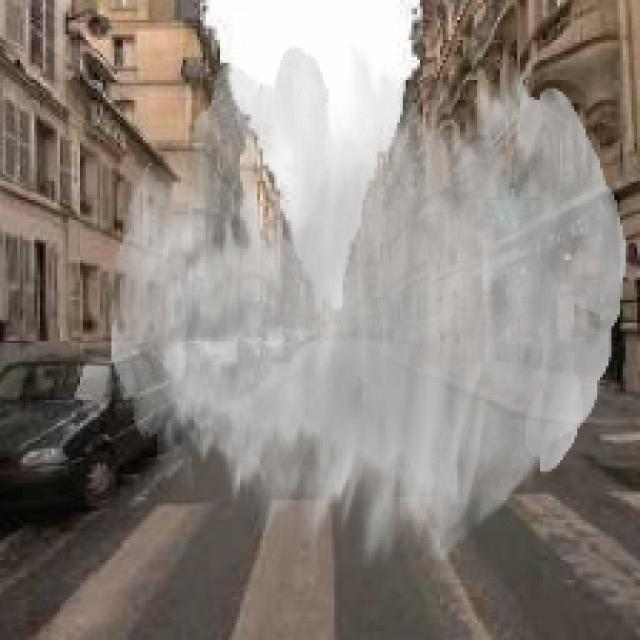smoke: (109, 46, 626, 568)
